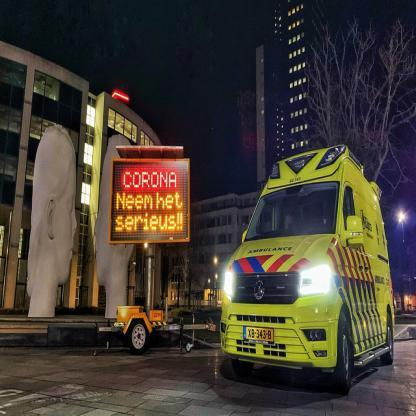Ambulance - v1 Ambulance last generate: (216, 146, 392, 372)
